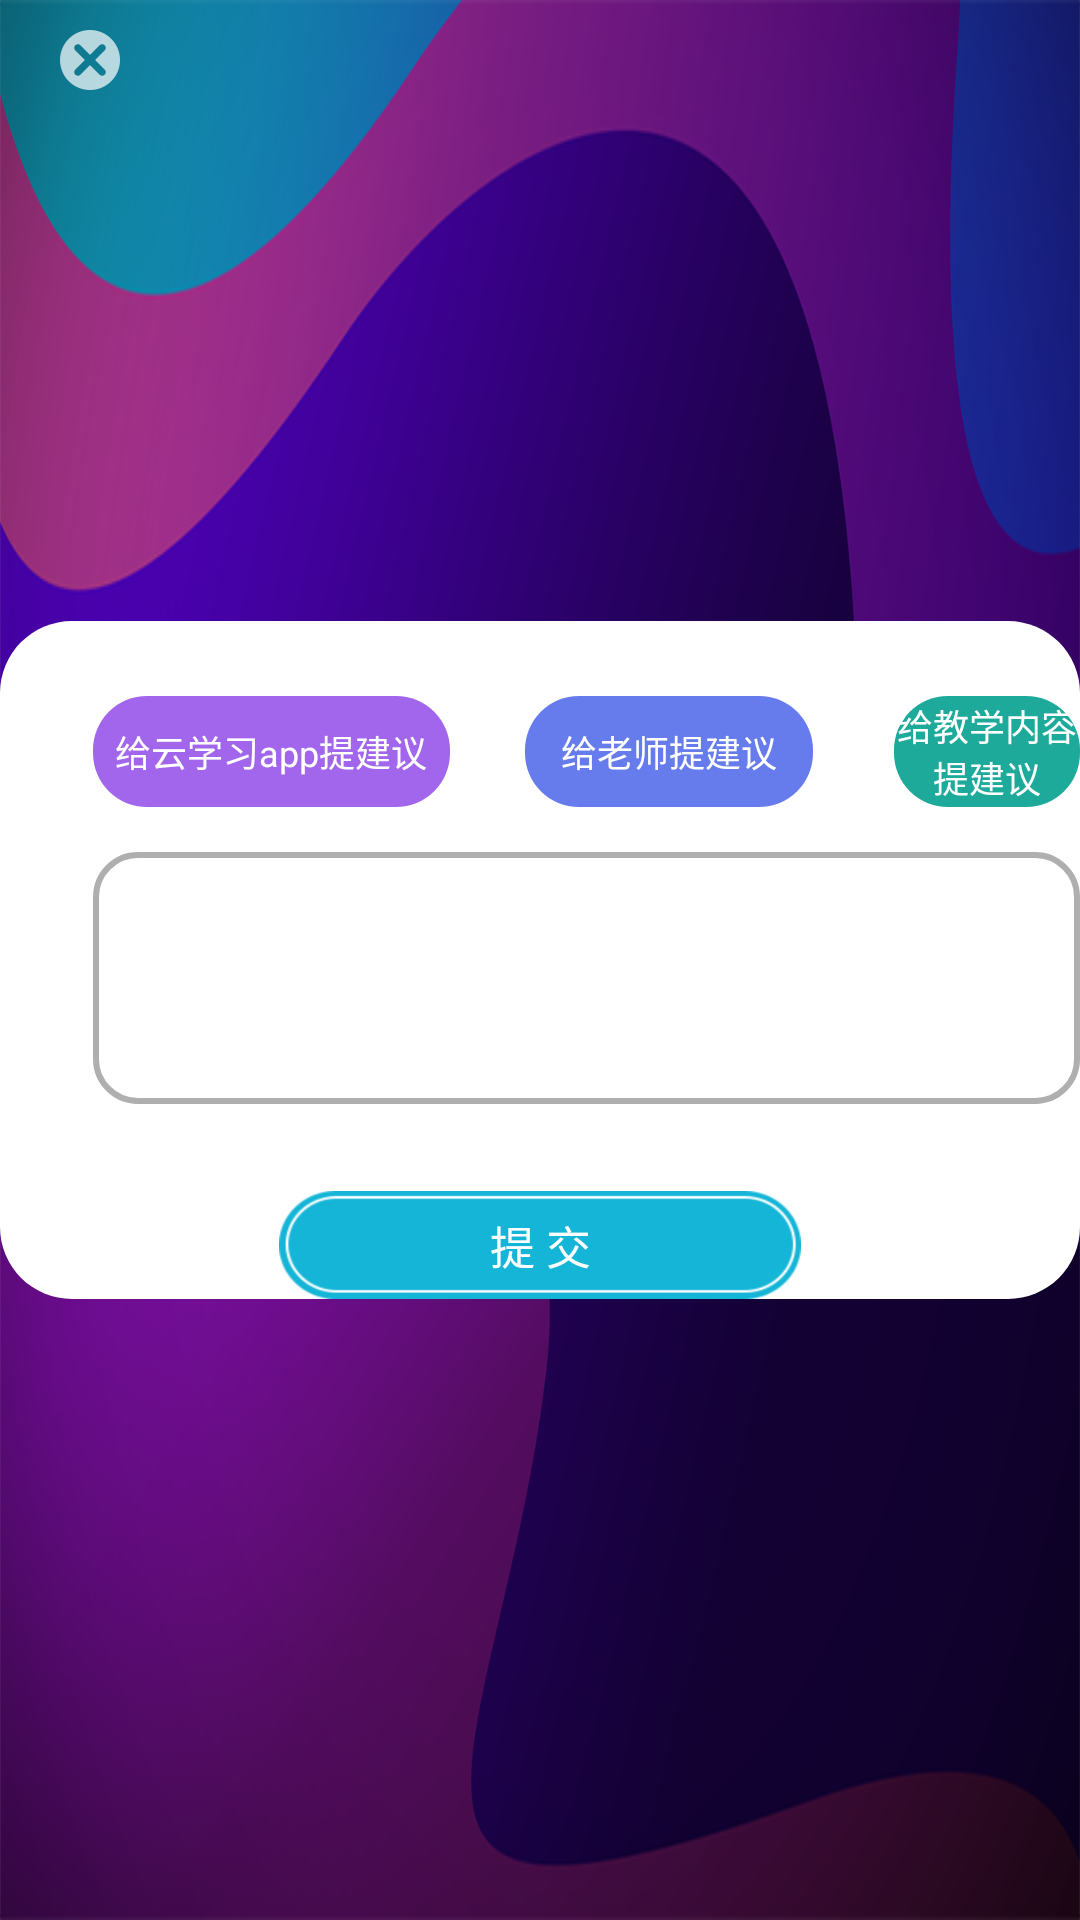

Point at icon controls on the screen. Image size 1080×1920, points as (x,y).
close: (105,60)
